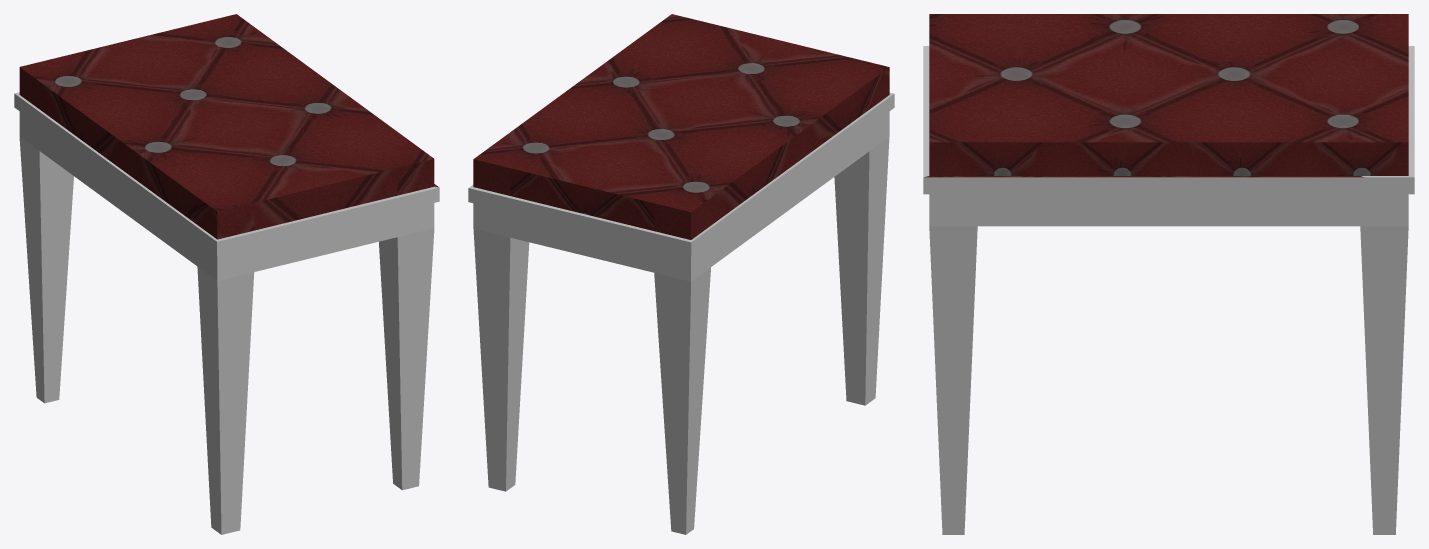
File: Banco do piano.fbx
3 views of the same model, side by side, from view 1: azimuth 30°, elevation 25°; view 2: azimuth 150°, elevation 25°; view 3: azimuth 270°, elevation 25° (orthographic). The views are drawn at different scales.
Visible parts, largest first — view 1: Banco do puano; view 2: Banco do puano; view 3: Banco do puano.
Part boxes in pixels (bbox=[...]): Banco do puano: bbox=[14, 14, 439, 534]; Banco do puano: bbox=[468, 14, 894, 534]; Banco do puano: bbox=[923, 14, 1414, 534].
Size of the model in its own units: 34.42 by 48.65 by 54.35.
